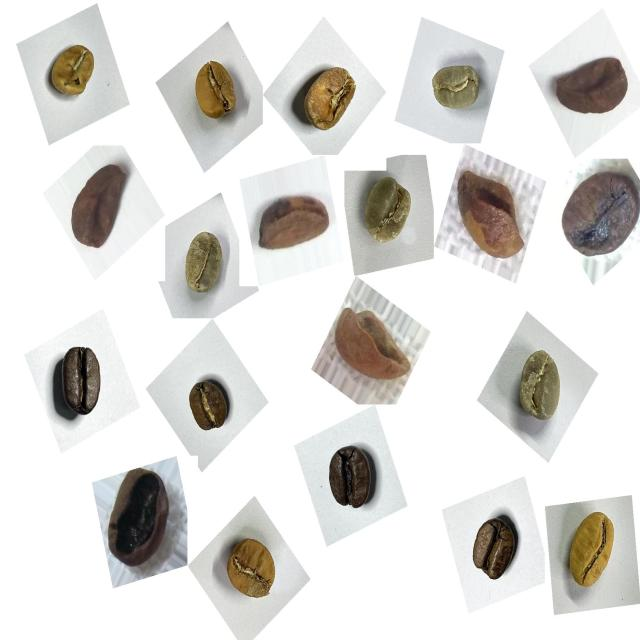bad: (97, 459, 182, 579), (550, 161, 638, 268), (451, 160, 531, 270), (60, 153, 135, 260), (330, 300, 413, 394), (548, 46, 635, 130), (253, 182, 335, 266)
dark: (45, 337, 115, 429), (316, 434, 388, 522)
green: (506, 340, 574, 435), (351, 168, 424, 256), (172, 224, 233, 308), (422, 55, 490, 126)
light: (557, 502, 630, 602), (291, 56, 366, 144), (218, 529, 286, 614), (40, 34, 106, 112), (185, 52, 248, 133)
medium: (459, 507, 525, 591), (180, 372, 238, 442)
